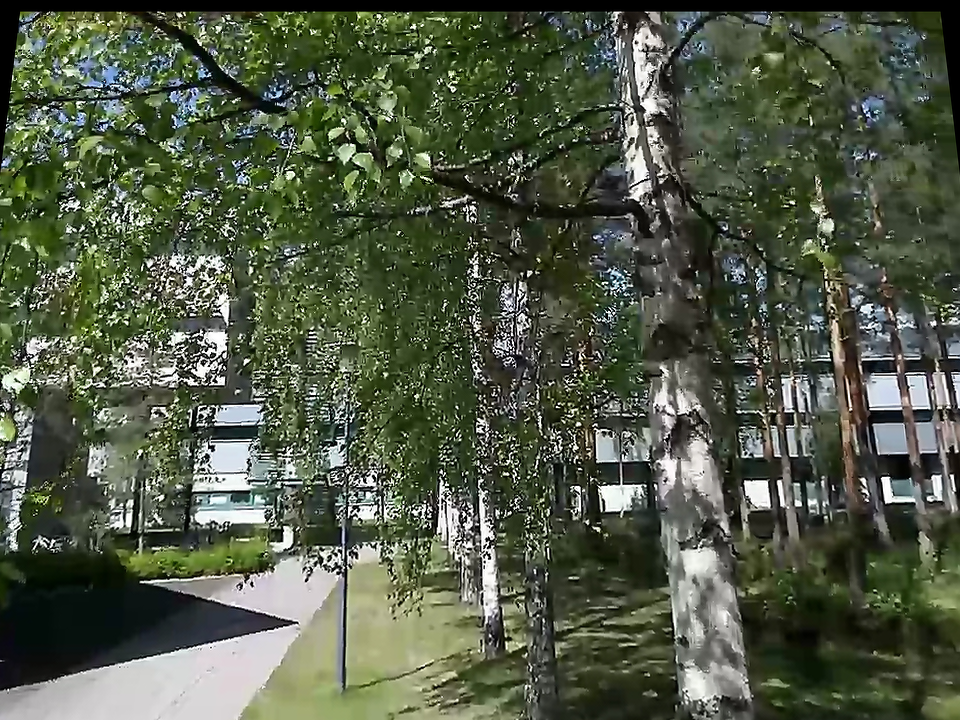branch: (468, 184, 647, 233)
trunk: (604, 19, 728, 350), (626, 334, 756, 600), (653, 565, 782, 718)
